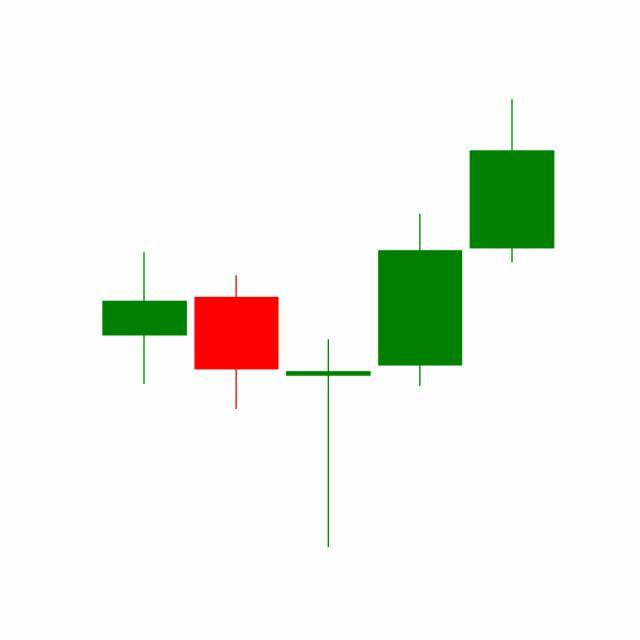Morning Star: (190, 210, 467, 548)
